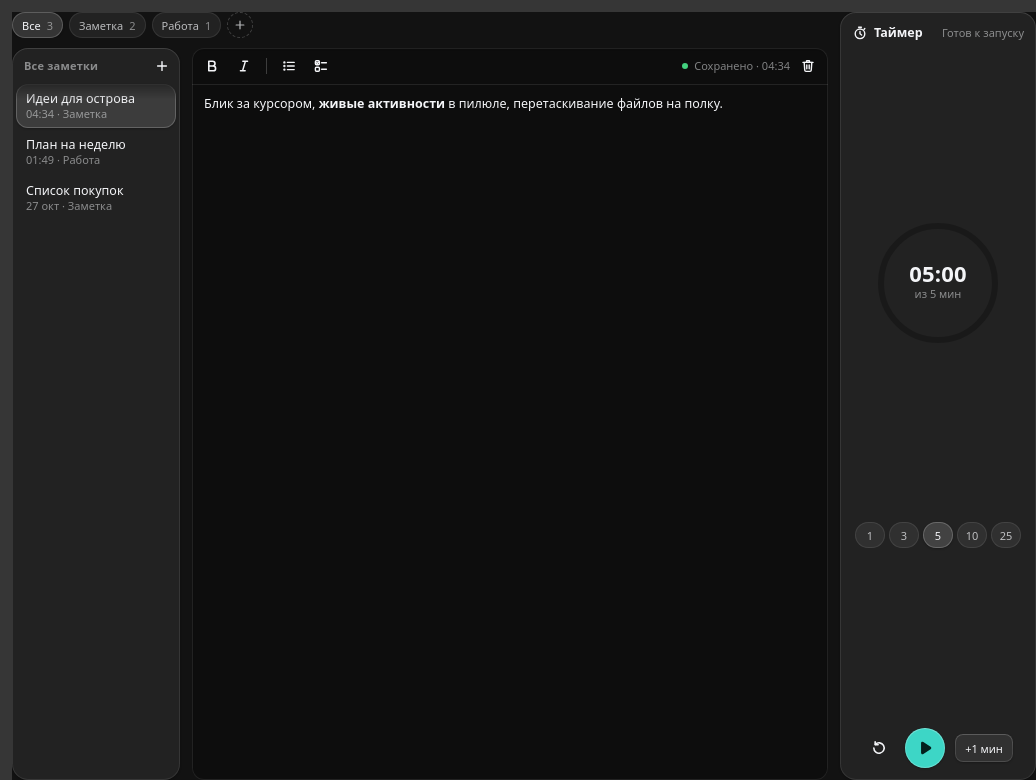
Test: Notes tab: timer card › idle → running → paused → reset, with presets and +1 мин
expect the text "05:00" is shown: met, box [909,262,967,284]
expect the text "Готов к запуску" is shown: met, box [942,25,1024,42]
Click the button named "10 мин": (972, 535) [957,522,987,548]
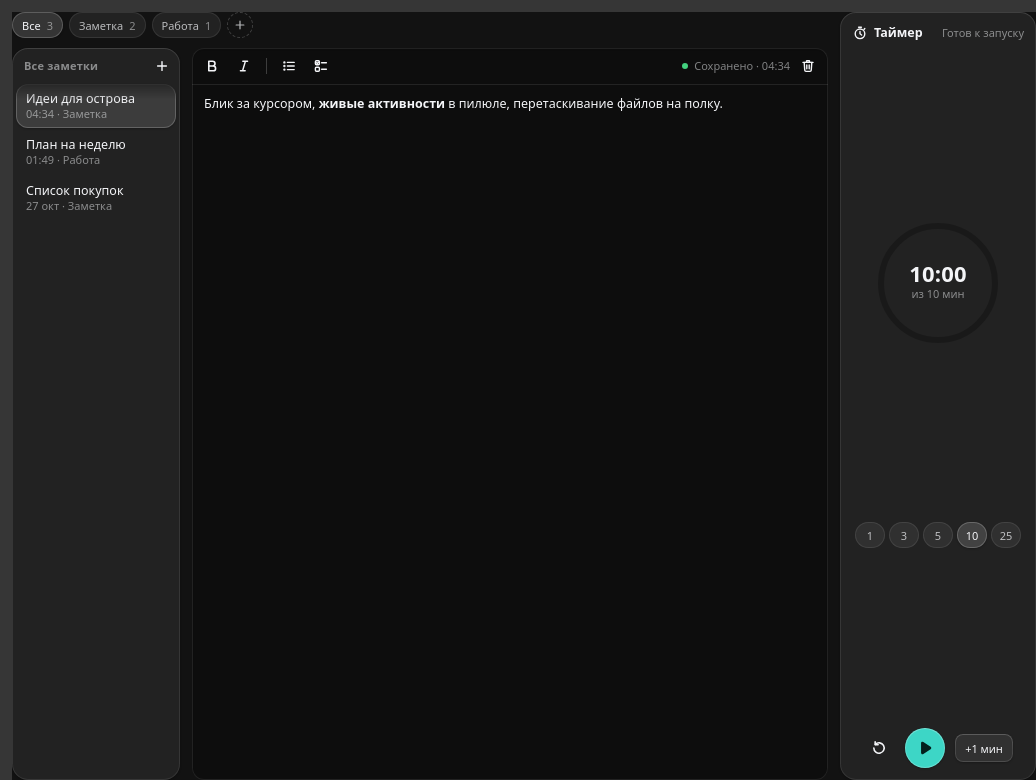
expect the text "10:00" is shown: met, box [909,262,967,284]
expect the text "из 10 мин" is shown: met, box [912,286,965,303]
Click the button named "Старт": (925, 748) [905,728,945,768]
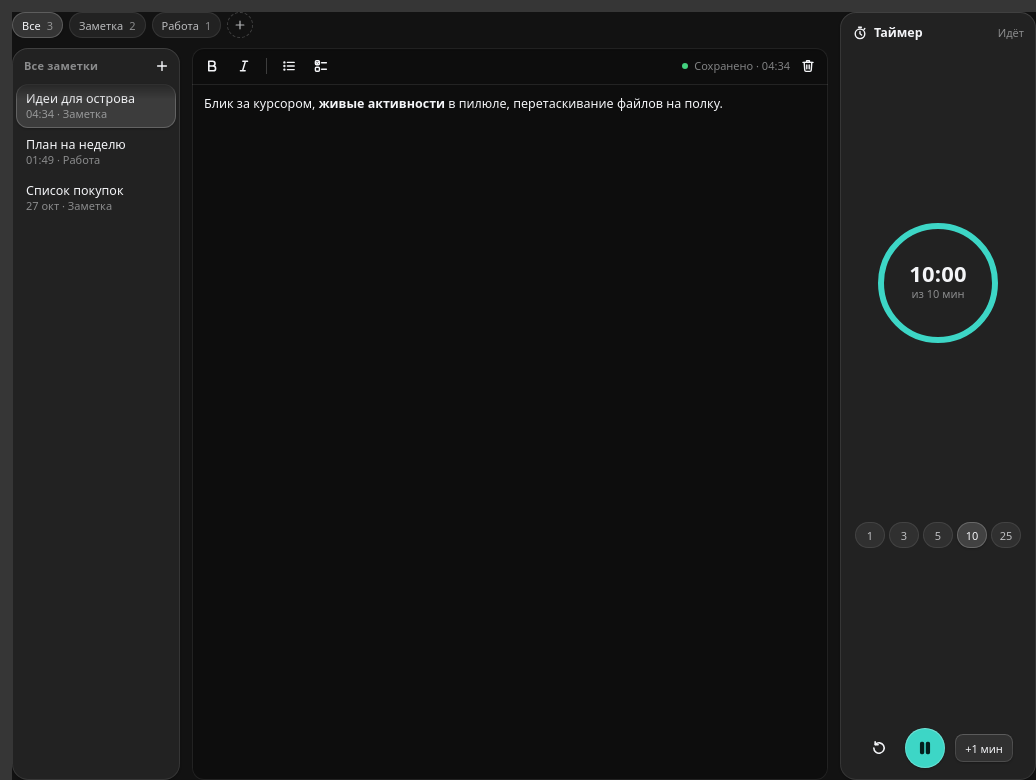
expect the text "Идёт" is shown: met, box [998,25,1024,42]
Click the button named "Пауза": (925, 748) [905,728,945,768]
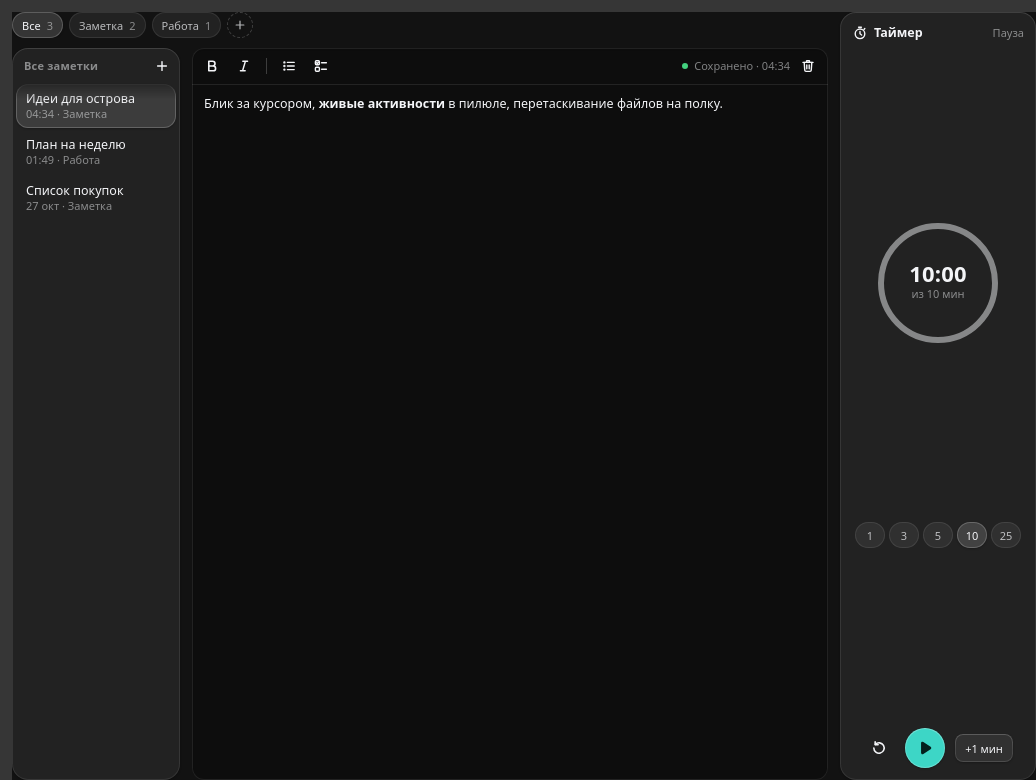
expect the text "Пауза" is shown: met, box [993,25,1024,42]
Click the button "+1 мин": (984, 748) [955,734,1013,762]
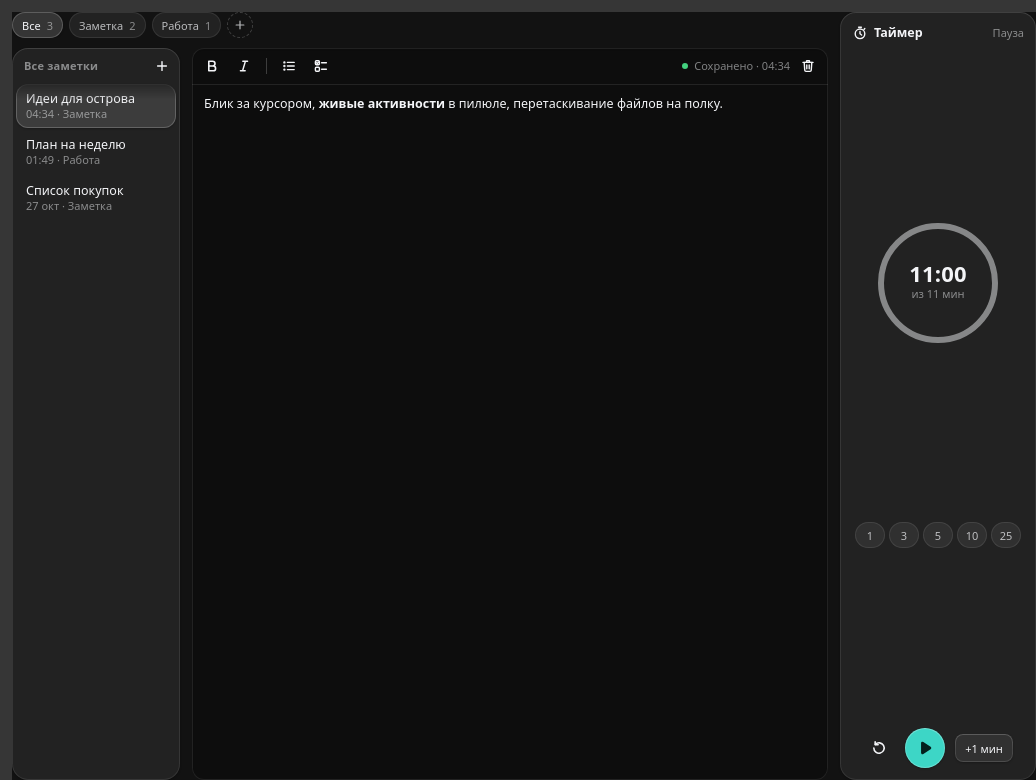
expect the text "из 11 мин" is shown: met, box [912,286,965,303]
Click the button named "Сбросить": (879, 748) [863,732,895,764]
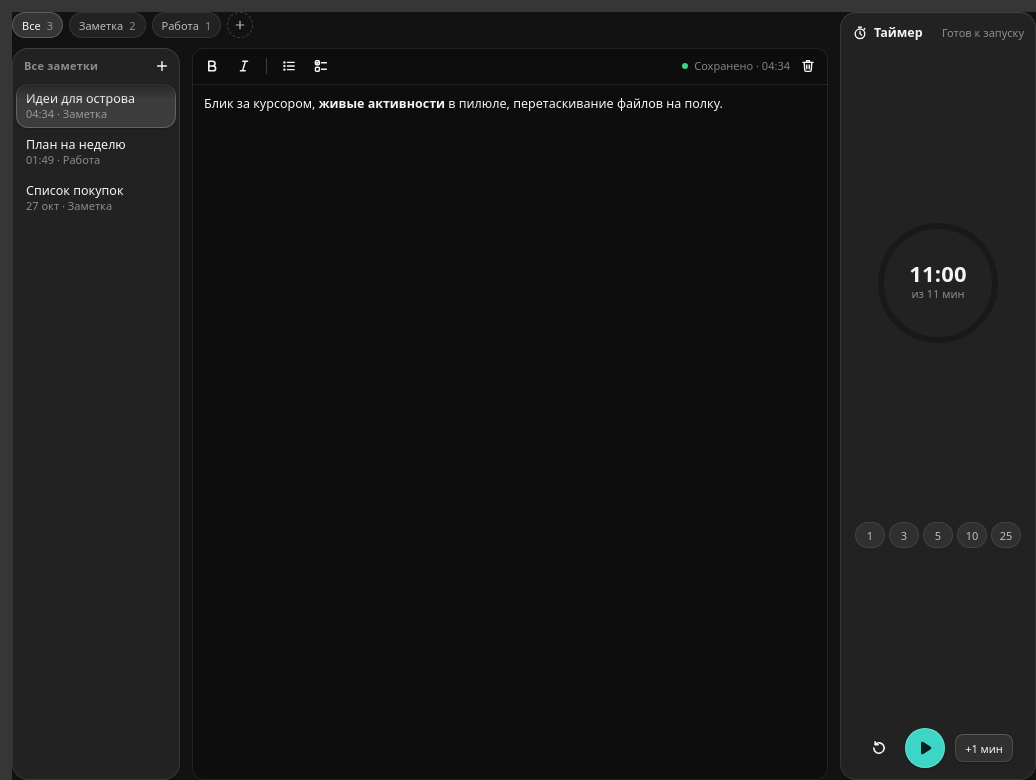
expect the text "из 11 мин" is shown: met, box [912,286,965,303]
expect the text "Готов к запуску" is shown: met, box [942,25,1024,42]
